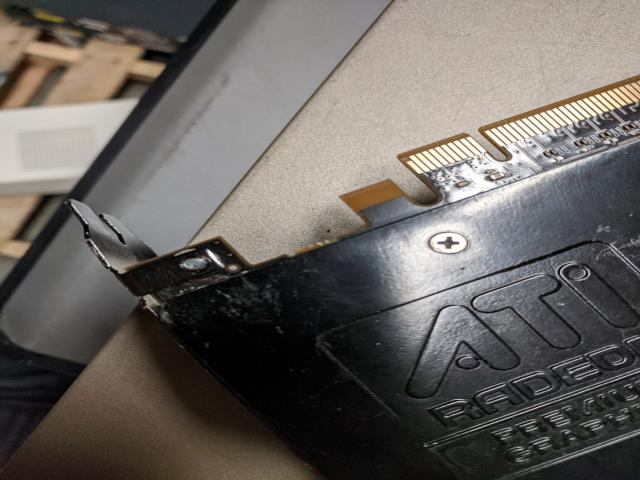CRS: (428, 230, 472, 256)
